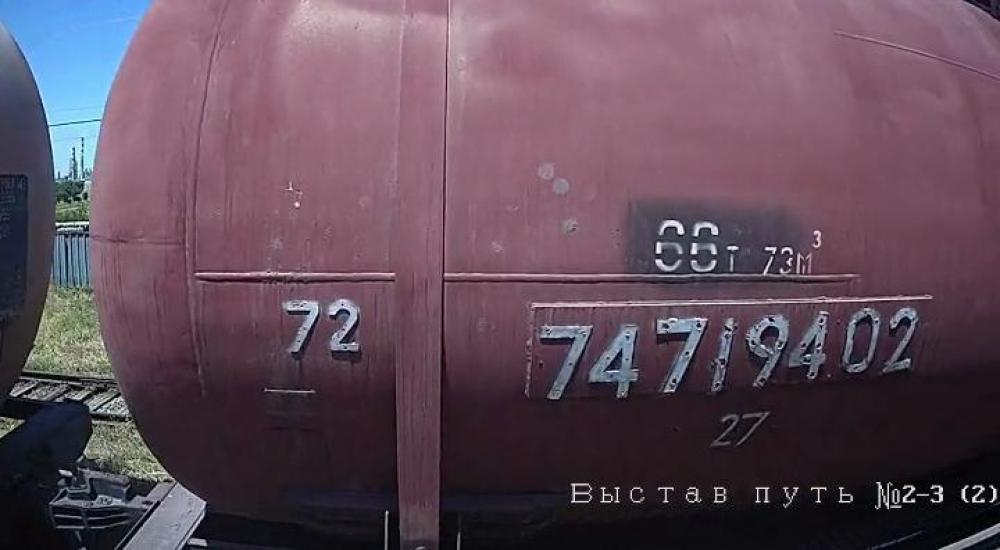Wagon-number: (534, 303, 922, 402)
